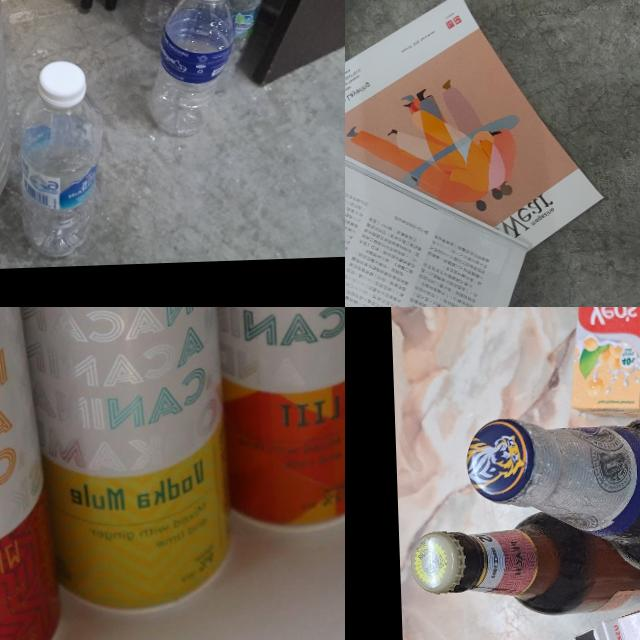caixinha: (565, 307, 640, 414)
garrafa de vidro: (471, 400, 640, 592), (408, 519, 640, 625)
garrafa plástica: (12, 93, 108, 255), (145, 0, 235, 133), (209, 0, 277, 88)
lata: (0, 307, 225, 609), (177, 307, 345, 531), (0, 307, 43, 640)
papel: (345, 0, 608, 307)
tampa plástica: (33, 58, 85, 106)
